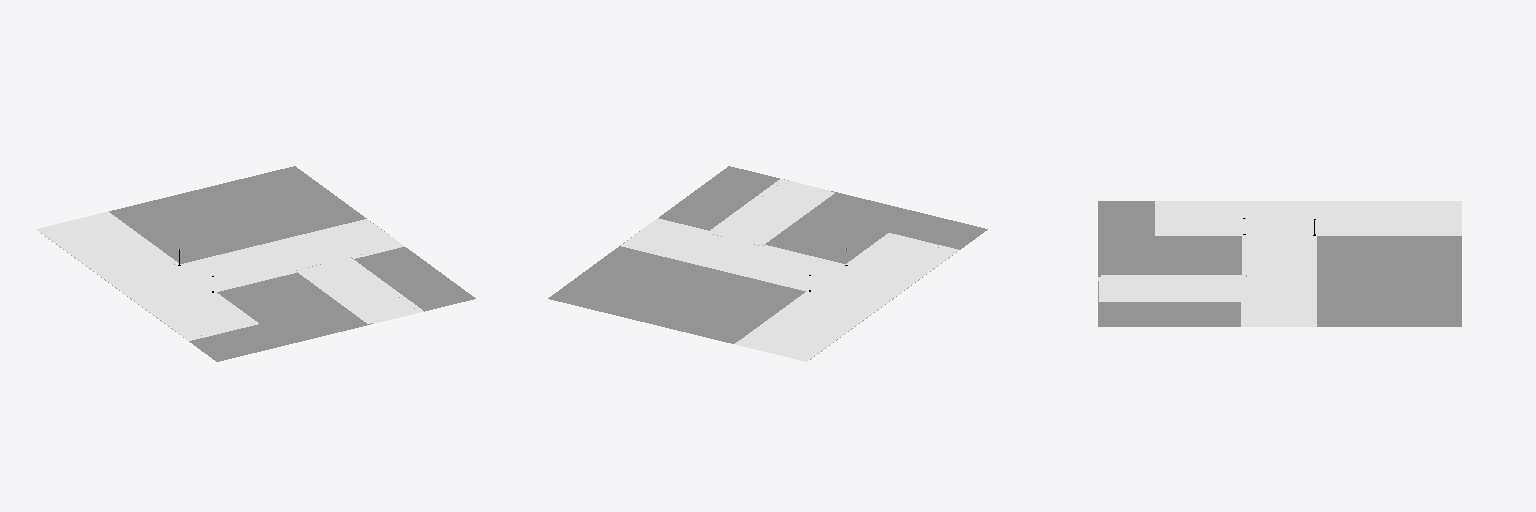
The model's file is Camino.obj.
3 views of the same model, side by side, from view 1: azimuth 30°, elevation 25°; view 2: azimuth 150°, elevation 25°; view 3: azimuth 270°, elevation 25° (orthographic).
Visible parts, largest first — view 1: ground_1, room_1_2, room_2_3, room_4_5; view 2: ground_1, room_1_2, room_2_3, room_4_5; view 3: ground_1, room_1_2, room_2_3, room_4_5.
Boxes of the visible parts, box(x1,y1,x2,y2) form: ground_1: box(41, 166, 475, 361); room_1_2: box(44, 215, 401, 337); room_2_3: box(300, 258, 419, 323); room_4_5: box(39, 230, 189, 338); ground_1: box(548, 166, 987, 359); room_1_2: box(624, 220, 950, 358); room_2_3: box(712, 180, 830, 244); room_4_5: box(805, 251, 955, 359); ground_1: box(1098, 201, 1461, 326); room_1_2: box(1161, 203, 1455, 326); room_2_3: box(1098, 277, 1246, 299); room_4_5: box(1161, 201, 1455, 202).
Size of the model in its own units: 3053 by 181 by 3699.